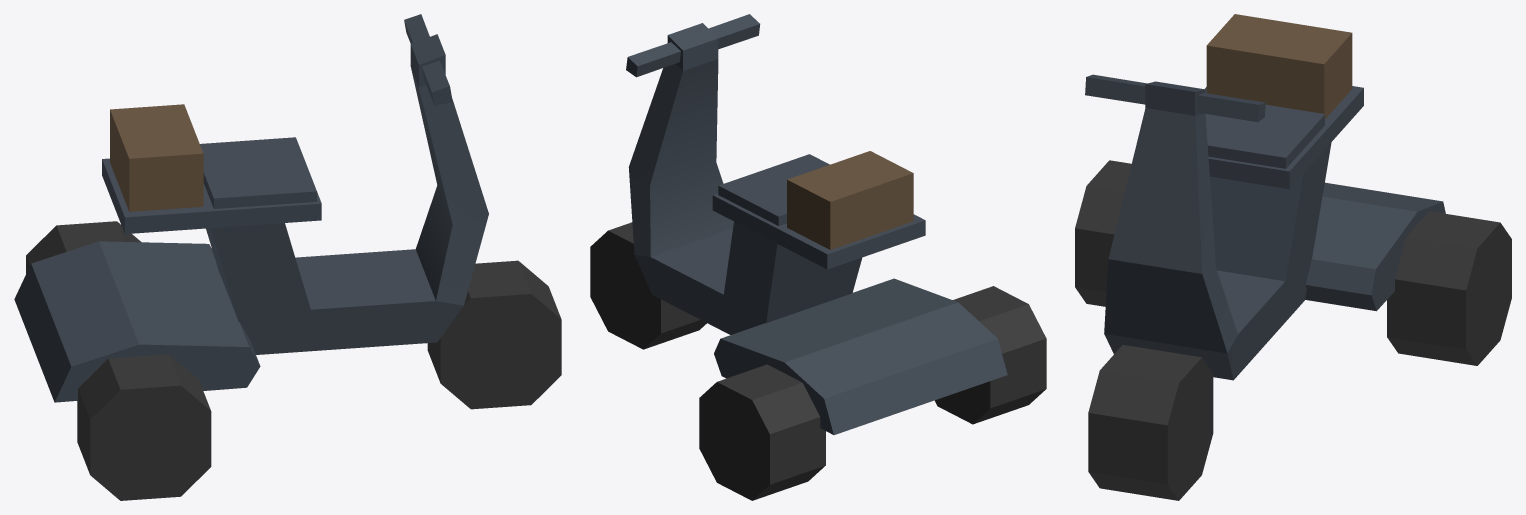
File: Bike.fbx
3 views of the same model, side by side, from view 1: azimuth 30°, elevation 25°; view 2: azimuth 150°, elevation 25°; view 3: azimuth 270°, elevation 25° (orthographic). The views are drawn at different scales.
Parts seen in each view (by area): view 1: BikeONEbody, BikeONEBackplate, BikeONERightWheel, BikeONEFrontWheel, BikeONEBox, BikeONERLeftWheel; view 2: BikeONEbody, BikeONEBackplate, BikeONERLeftWheel, BikeONEBox, BikeONERightWheel, BikeONEFrontWheel; view 3: BikeONEbody, BikeONEFrontWheel, BikeONERLeftWheel, BikeONEBox, BikeONEBackplate, BikeONERightWheel.
Part boxes in pixels (x1,y1,x2,y2): BikeONEbody: [102, 14, 488, 354]; BikeONEBackplate: [14, 241, 260, 402]; BikeONERightWheel: [77, 354, 211, 500]; BikeONEFrontWheel: [427, 260, 561, 409]; BikeONEBox: [110, 104, 203, 211]; BikeONERLeftWheel: [26, 221, 141, 273]; BikeONEbody: [626, 14, 925, 334]; BikeONEBackplate: [714, 278, 1007, 434]; BikeONERLeftWheel: [699, 364, 825, 500]; BikeONEBox: [787, 151, 913, 249]; BikeONERightWheel: [934, 286, 1046, 424]; BikeONEFrontWheel: [590, 222, 706, 349]; BikeONEbody: [1085, 74, 1363, 380]; BikeONEFrontWheel: [1088, 345, 1213, 500]; BikeONERLeftWheel: [1387, 211, 1511, 365]; BikeONEBox: [1206, 14, 1352, 118]; BikeONEBackplate: [1305, 182, 1445, 311]; BikeONERightWheel: [1075, 160, 1131, 306].
Size of the model in its own units: 7.37 by 5.13 by 5.47.
